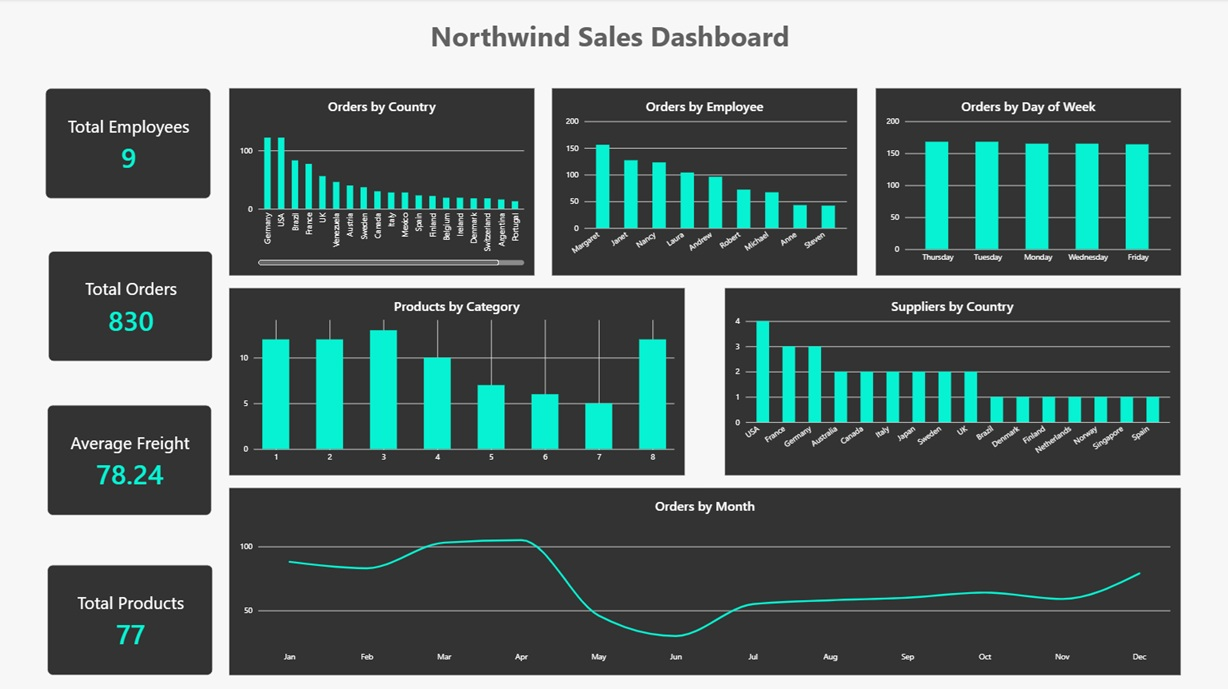

What the dashboard file says about the page in this screenshot:
{"tool":"powerbi","page":{"name":"Page 1","canvas":[1920,1080],"ordinal":0},"visuals":[{"type":"cardVisual","fields":{"Data":["New_Measures.Total Orders"]},"box":[78,394,256,172],"z":0},{"type":"cardVisual","fields":{"Data":["New_Measures.Average Freight"]},"box":[76,634,256,172],"z":1000},{"type":"cardVisual","fields":{"Data":["New_Measures.Total Employees"]},"box":[74,140,258,172],"z":2000},{"type":"cardVisual","fields":{"Data":["New_Measures.Total Products"]},"box":[76,884,258,172],"z":3000},{"type":"lineChart","title":"Orders by Month","fields":{"Category":["Order.Month"],"Y":["New_Measures.Total Orders"]},"box":[360,764,1484,292],"z":4000},{"type":"clusteredColumnChart","title":"Orders by Employee","fields":{"Category":["Employees.FirstName"],"Y":["New_Measures.Total Orders"]},"box":[864,140,476,292],"z":5000},{"type":"clusteredColumnChart","title":"Orders by Day of Week","fields":{"Category":["Order.Day of Week"],"Y":["New_Measures.Total Orders"]},"box":[1368,140,476,292],"z":6000},{"type":"clusteredColumnChart","title":"Products by Category","fields":{"Category":["Product.CategoryID"],"Y":["New_Measures.Total Products"]},"box":[360,452,710,292],"z":7000},{"type":"clusteredColumnChart","title":"Suppliers by Country","fields":{"Category":["SupplierData.Country"],"Y":["New_Measures.Total Suppliers"]},"box":[1134,452,710,292],"z":8000},{"type":"textbox","box":[658,28,604,82],"z":9000},{"type":"clusteredColumnChart","title":"Orders by Country","fields":{"Category":["Order.ShipCountry"],"Y":["New_Measures.Total Orders"]},"box":[360,140,476,292],"z":10000}]}

Visuals, with their boxes in screenshot pixels (x1, y1, x2, y2), scaled from the page's 1920x1080 canvas onto the 1228x689 screenshot:
cardVisual - New_Measures.Total Orders: bbox=[50, 251, 214, 361]
cardVisual - New_Measures.Average Freight: bbox=[49, 404, 212, 514]
cardVisual - New_Measures.Total Employees: bbox=[47, 89, 212, 199]
cardVisual - New_Measures.Total Products: bbox=[49, 564, 214, 674]
"Orders by Month" lineChart: bbox=[230, 487, 1179, 674]
"Orders by Employee" clusteredColumnChart: bbox=[553, 89, 857, 276]
"Orders by Day of Week" clusteredColumnChart: bbox=[875, 89, 1179, 276]
"Products by Category" clusteredColumnChart: bbox=[230, 288, 684, 475]
"Suppliers by Country" clusteredColumnChart: bbox=[725, 288, 1179, 475]
textbox: bbox=[421, 18, 807, 70]
"Orders by Country" clusteredColumnChart: bbox=[230, 89, 535, 276]
